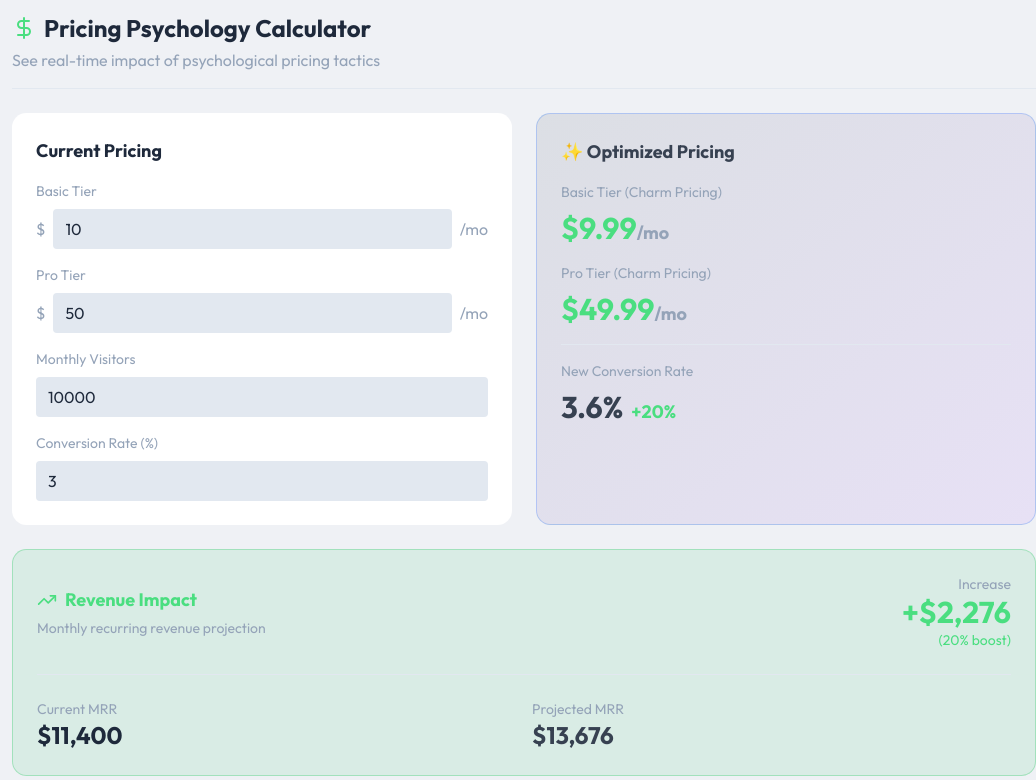
Test: PricingCalculator › updates charm pricing when basic price changes
The image size is (1036, 780).
Replace the text in the 1st number field with "15" at [253, 229], box top-left (53, 209), bottom-right (452, 249)
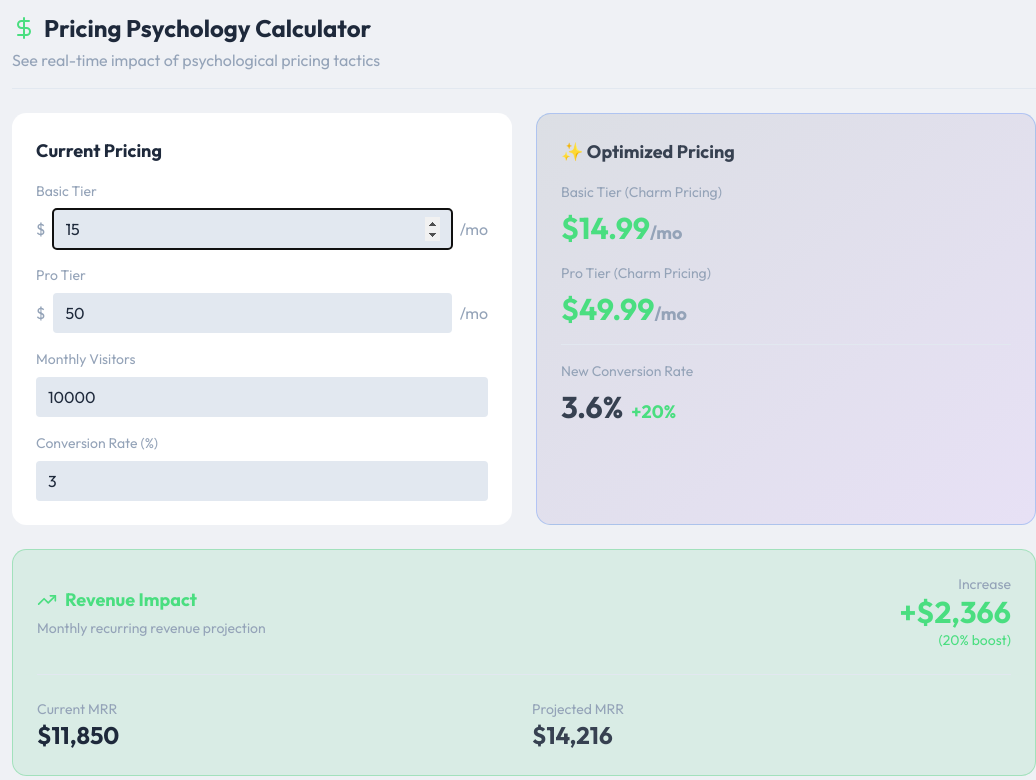
Now the text "$14.99" is shown, box top-left (561, 209), bottom-right (682, 247)
